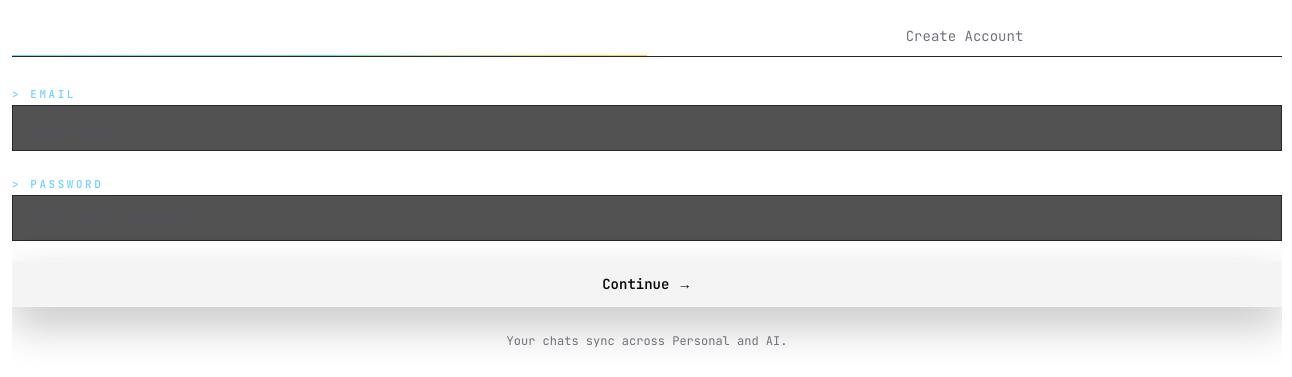
Test: PersonalLoginForm › shows a clear duplicate-email error during registration
This screenshot has width=1292, height=377.
Click the button "Create Account". click: (964, 36)
box: [647, 16, 1282, 56]
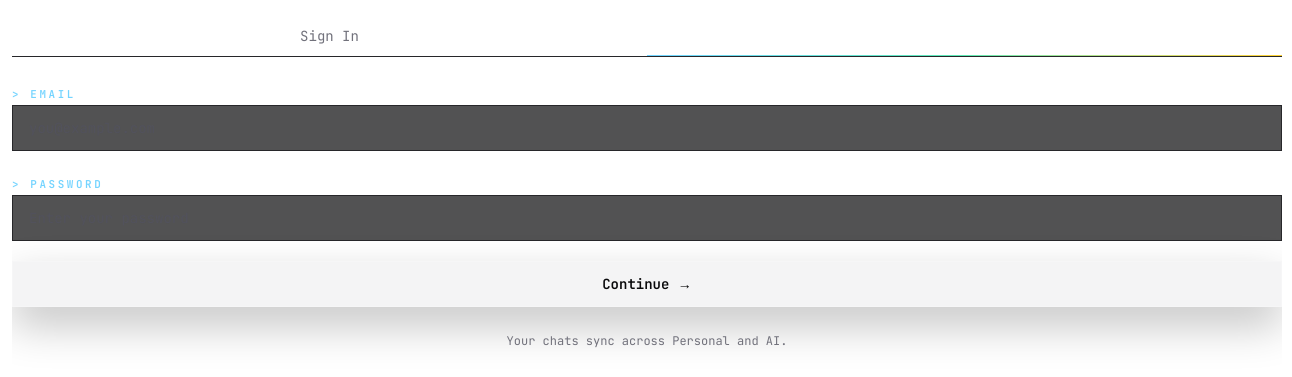
Type "mira@example.com" into the field labelled "Email". click: (647, 128)
box: [12, 105, 1282, 151]
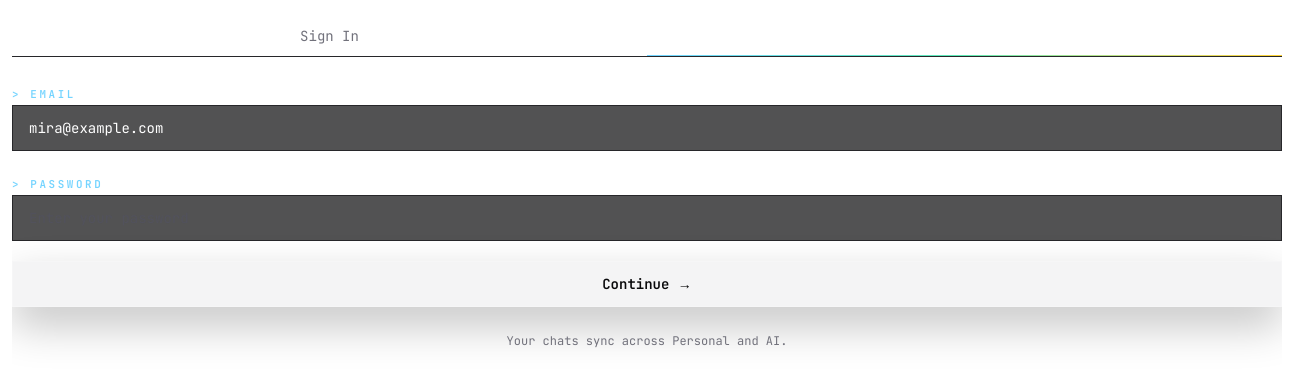
Type "Password123!" into the password field labelled "Password". click: (647, 218)
box: [12, 195, 1282, 241]
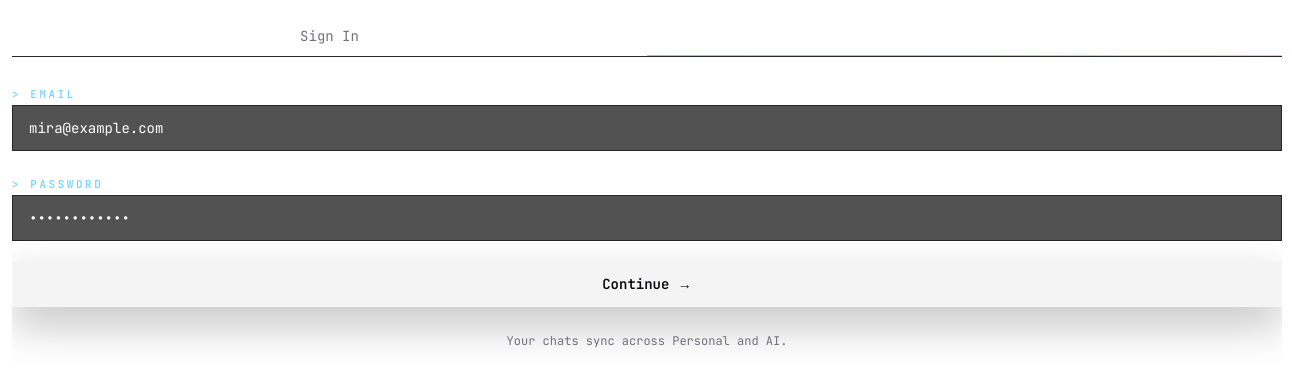
Click the button "Continue →". click: (647, 284)
box: [12, 261, 1282, 307]
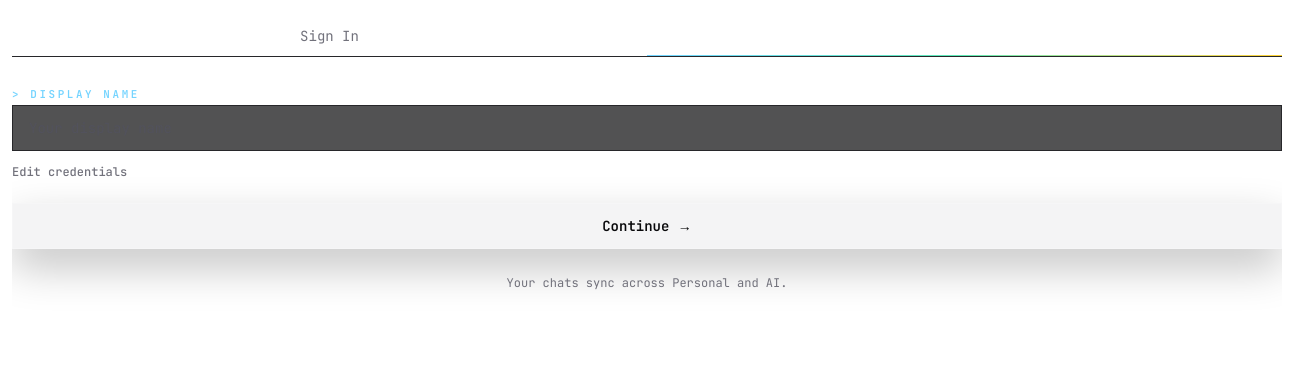
Type "Mira Hart" into the field labelled "Display Name". click: (647, 128)
box: [12, 105, 1282, 151]
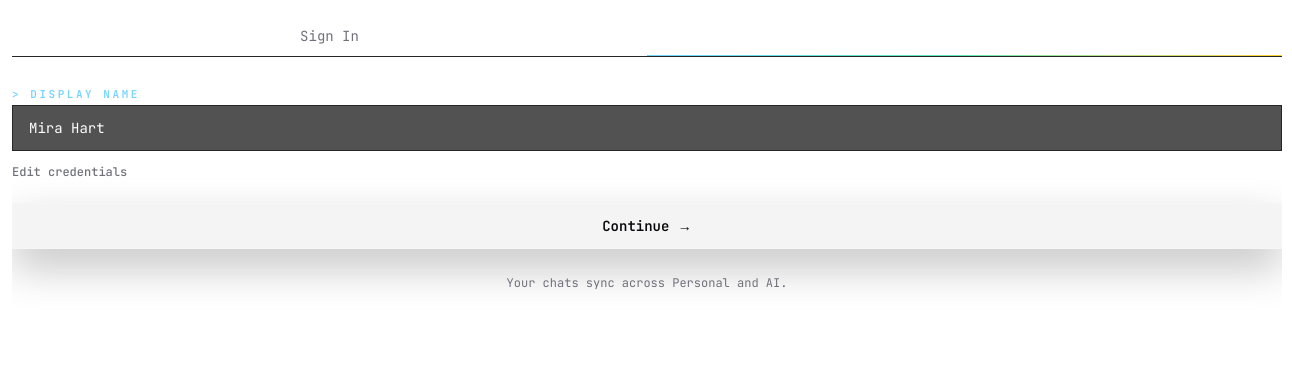
Click the button "Continue →". click: (647, 226)
box: [12, 203, 1282, 249]
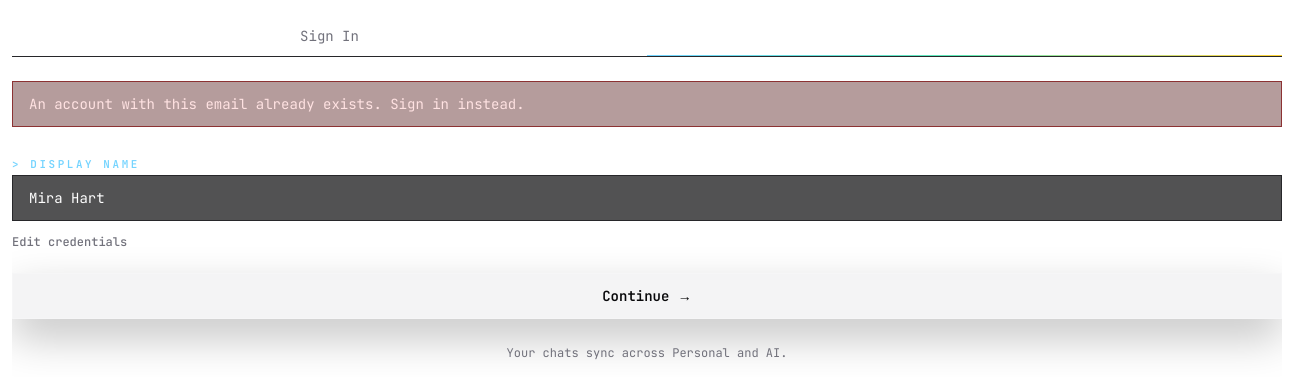
Expected: the message reads "An account with this email already exists. Sign in instead.", [29, 95, 525, 113]
